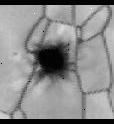good_void: (28, 42, 75, 78)
